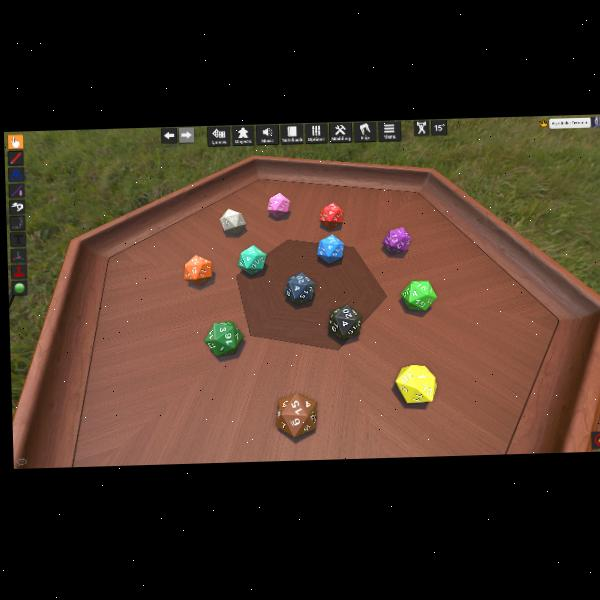d20: (275, 391, 318, 438), (396, 364, 434, 403), (203, 320, 241, 356), (327, 307, 361, 340), (401, 280, 434, 312), (283, 272, 314, 304), (185, 253, 214, 285), (237, 244, 266, 274), (317, 234, 345, 263), (382, 227, 409, 254), (219, 208, 245, 235), (319, 202, 344, 229), (266, 192, 290, 218)
